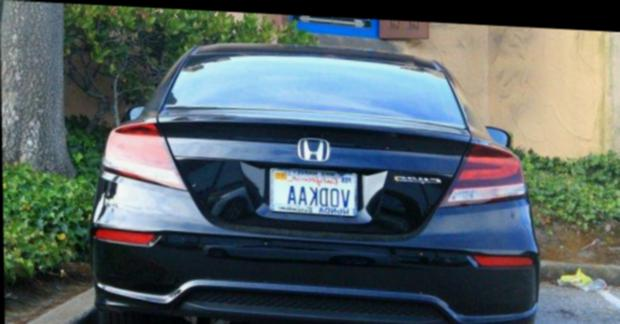License_Plate: (259, 162, 362, 226)
